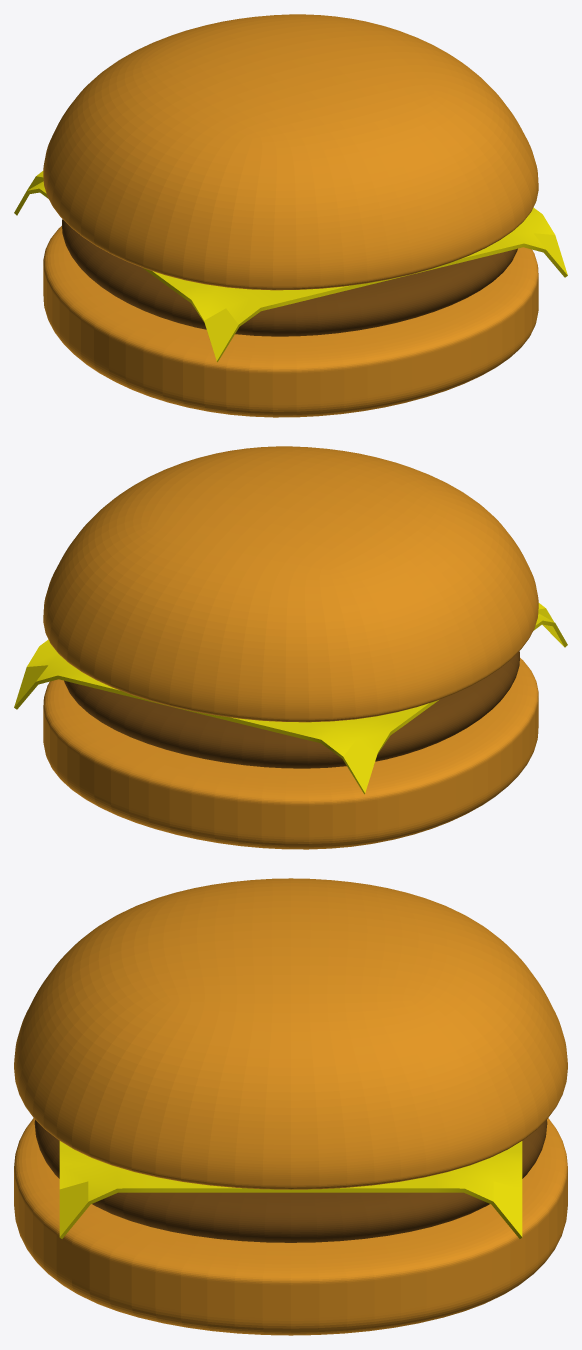
The model's file is hamburger.glb.
The picture shows the model from 3 angles, top to bottom: view 1: azimuth 30°, elevation 25°; view 2: azimuth 150°, elevation 25°; view 3: azimuth 270°, elevation 25°; orthographic projection. The views are drawn at different scales.
Visible parts, largest first — view 1: Cube.002, Cube, Cube.001, Plane; view 2: Cube.002, Cube, Cube.001, Plane; view 3: Cube.002, Cube, Cube.001, Plane.
Boxes of the visible parts, box(x1,y1,x2,y2) form: Cube.002: box(43, 14, 538, 290); Cube: box(43, 226, 538, 417); Cube.001: box(62, 219, 517, 336); Plane: box(14, 171, 567, 362); Cube.002: box(43, 446, 538, 722); Cube: box(43, 658, 538, 849); Cube.001: box(64, 651, 519, 768); Plane: box(14, 603, 567, 794); Cube.002: box(14, 878, 567, 1189); Cube: box(14, 1118, 567, 1335); Cube.001: box(34, 1120, 547, 1242); Plane: box(59, 1141, 522, 1238).
Size of the model in its own units: 9.2 by 5.78 by 9.2.
